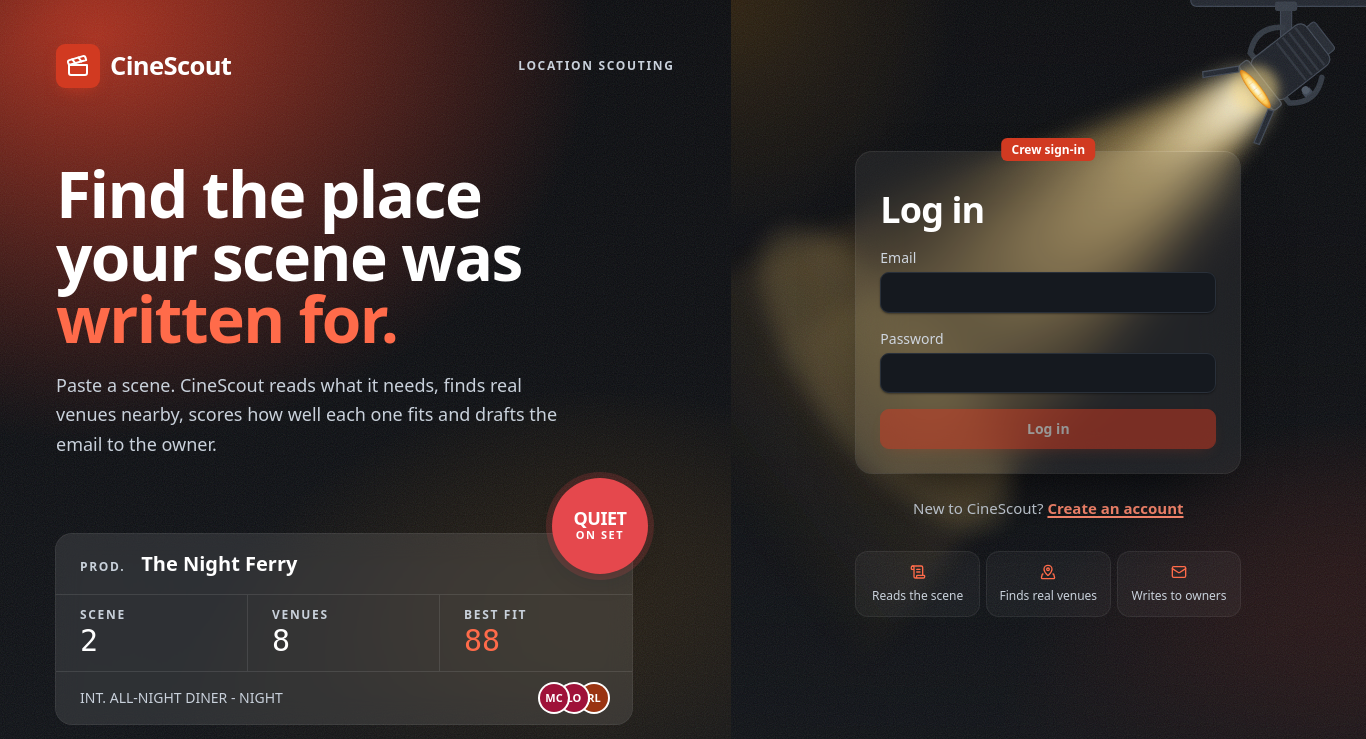
Test: a venue’s holds and dates › can be cleared a day at a time
The width and height of the screenshot is (1366, 739).
Type "ada@example.com" into the field labelled "Email" at (1048, 293), box [880,272,1216,313]
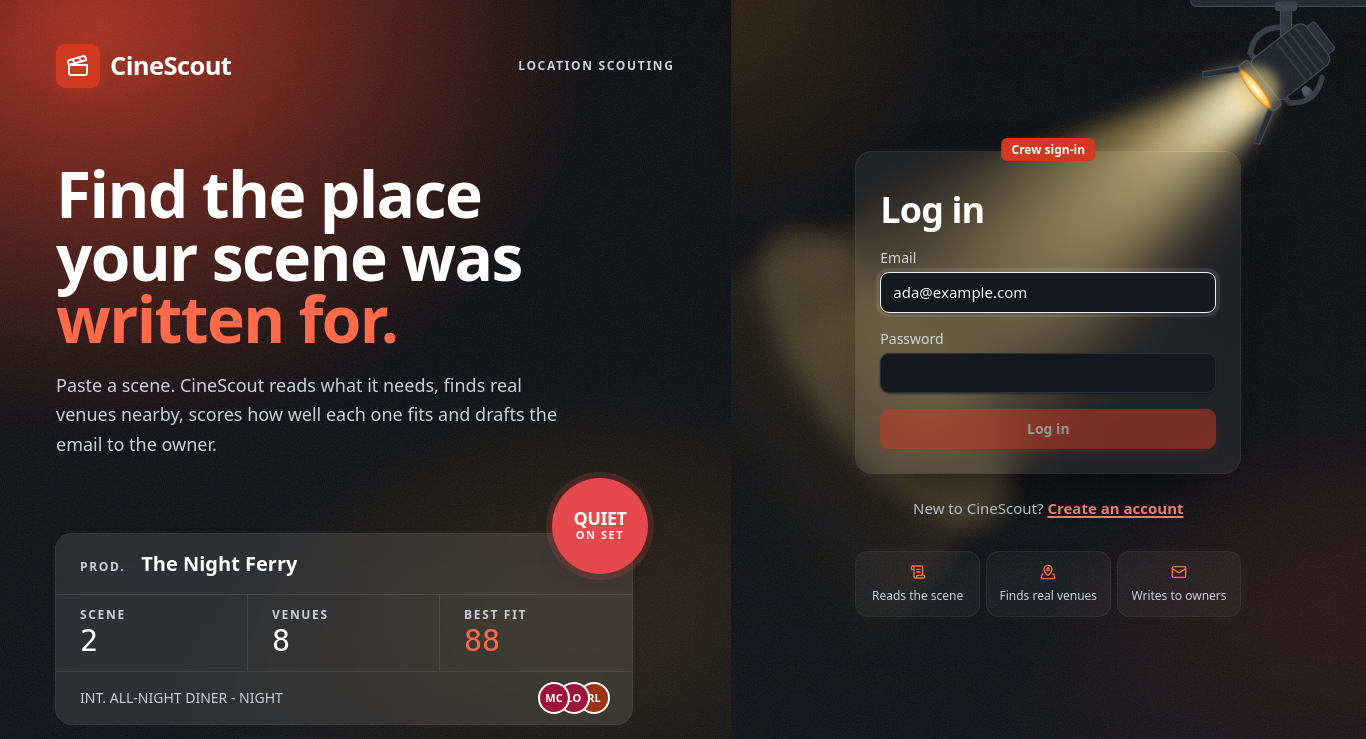
Type "a-long-password" into the password field labelled "Password" at (1048, 373), box [880,353,1216,393]
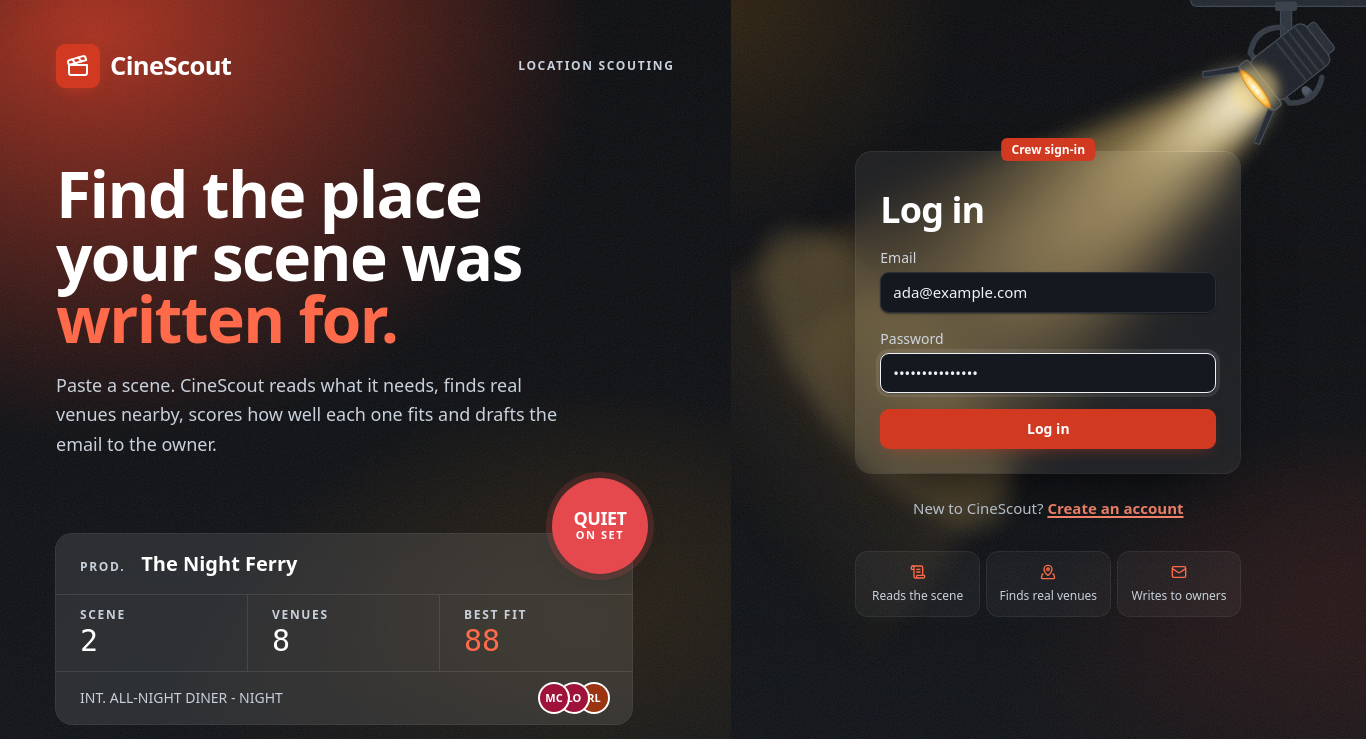
Click the button "Log in" at (1048, 429), box [880,409,1216,449]
(page scrolled)
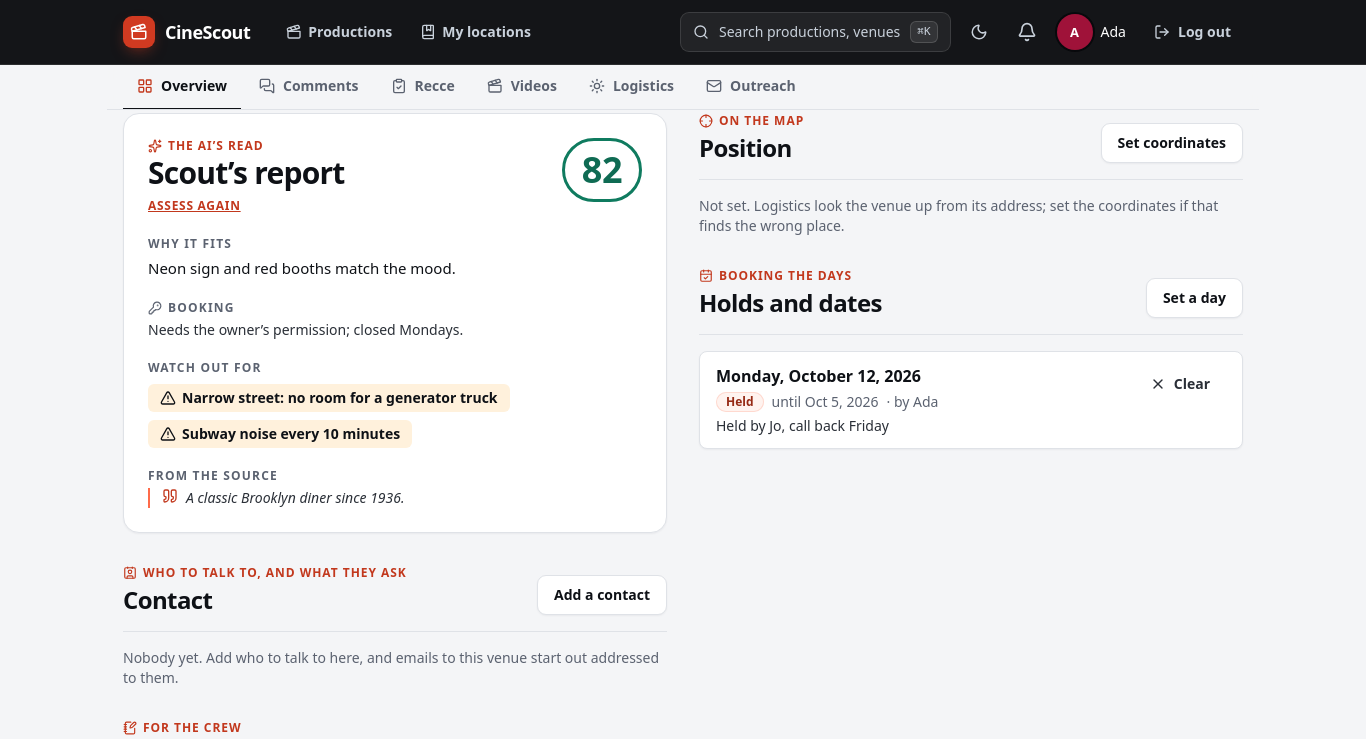
Click the button "Clear" at (1180, 384), box [1134,364,1226,404]
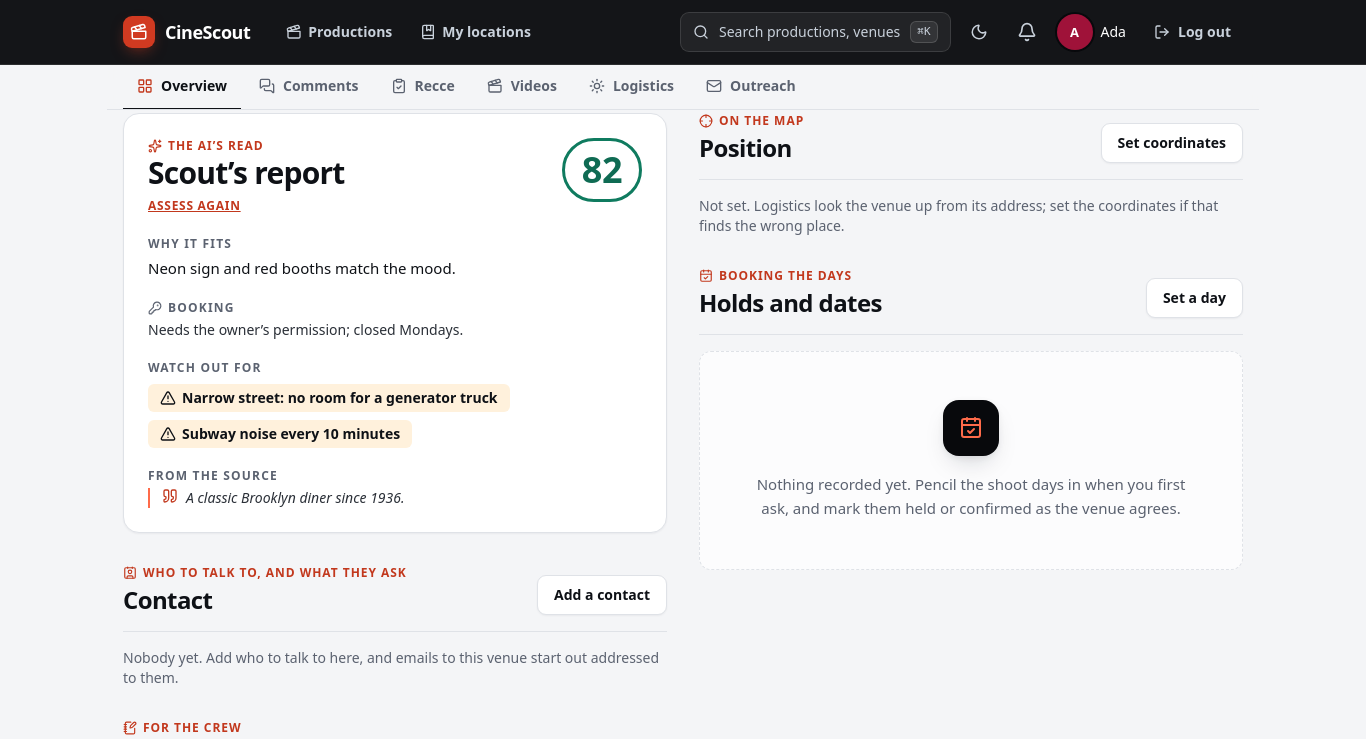
expect the text "Nothing recorded yet" is shown: met, box [757,474,1185,518]
